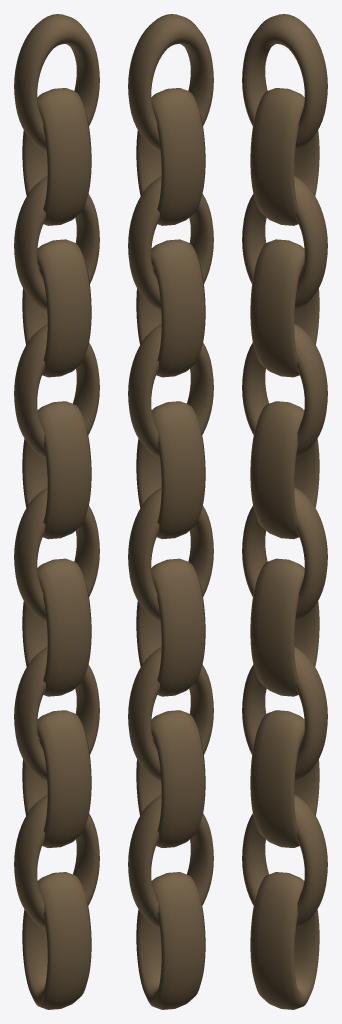
The model's file is Chain.fbx.
The picture shows the model from 3 angles, left to right: view 1: azimuth 30°, elevation 25°; view 2: azimuth 210°, elevation 25°; view 3: azimuth 330°, elevation 25°; orthographic projection.
Visible parts, largest first — view 1: Torus.004; view 2: Torus.004; view 3: Torus.004.
Part boxes in pixels (bbox=[...]): Torus.004: bbox=[14, 14, 99, 1009]; Torus.004: bbox=[128, 14, 213, 1009]; Torus.004: bbox=[242, 14, 327, 1009].
Bounding box in the file's own units: 21.61 × 261 × 15.1.
